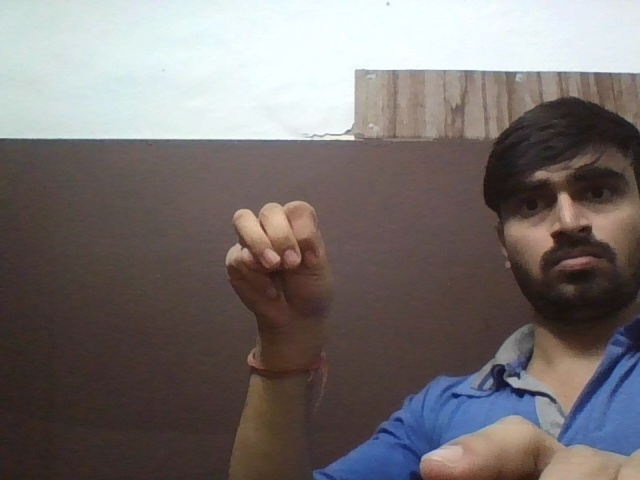M: (189, 201, 361, 338)
